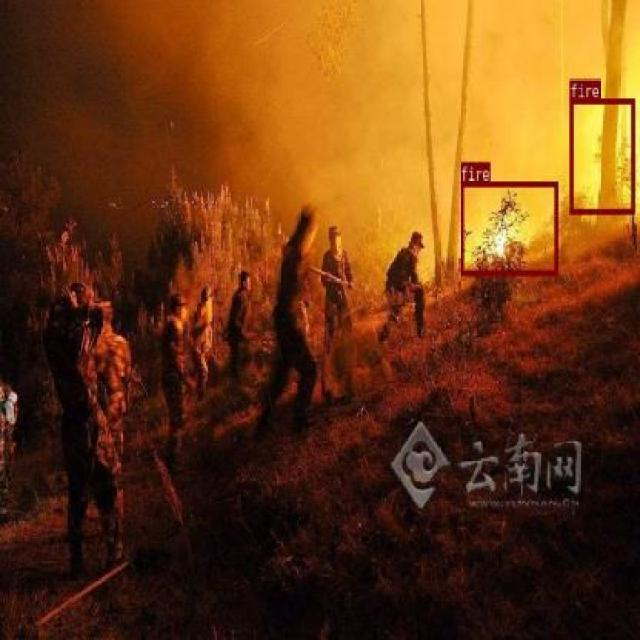Fire: (460, 180, 558, 274), (569, 98, 634, 214)
